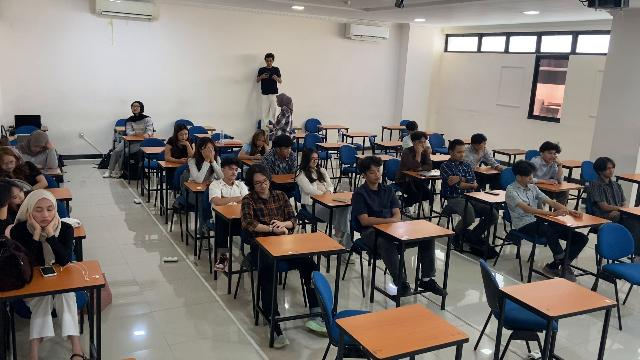bosan: (35, 202, 54, 225), (254, 176, 269, 192), (11, 187, 25, 204), (367, 167, 381, 183), (3, 156, 16, 171), (454, 146, 465, 162), (227, 165, 237, 180), (546, 150, 557, 163), (32, 145, 45, 155), (417, 138, 427, 151), (281, 145, 291, 158), (310, 154, 319, 167), (605, 164, 614, 177), (524, 172, 533, 185), (179, 131, 188, 142), (257, 137, 265, 147)
